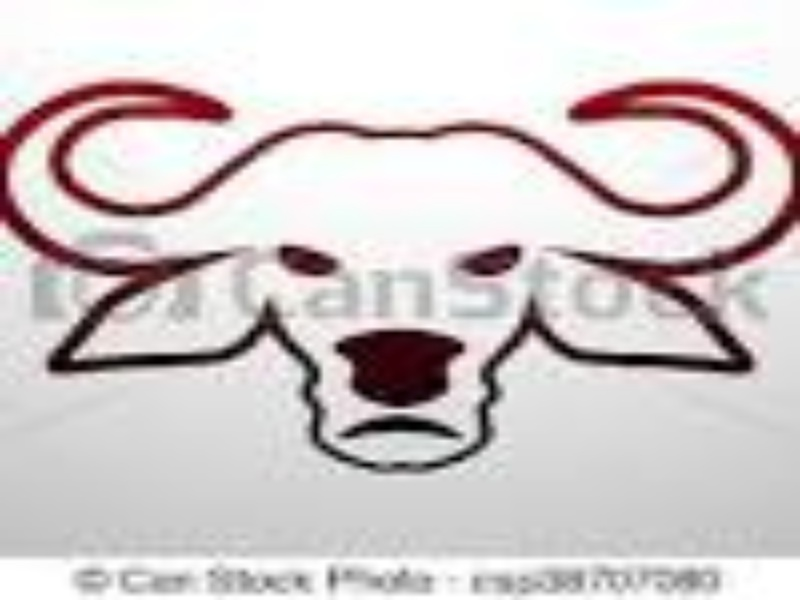buffalo: (20, 57, 787, 512)
